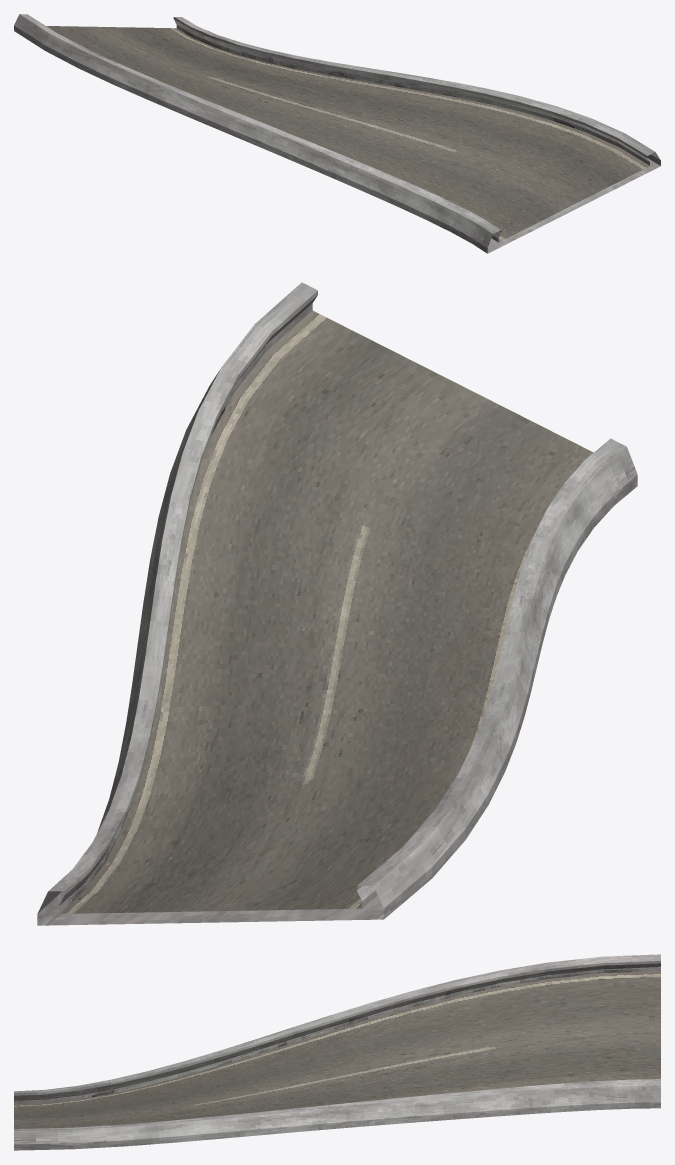
File: chicane-left1x3.glb
3 views of the same model, one above another, from view 1: azimuth 30°, elevation 25°; view 2: azimuth 150°, elevation 25°; view 3: azimuth 270°, elevation 25° (orthographic). The views are drawn at different scales.
Visible parts, largest first — view 1: road-Chicane-HalfBankedLeft-HalfBankedRight-Even-Left1-Size3; view 2: road-Chicane-HalfBankedLeft-HalfBankedRight-Even-Left1-Size3; view 3: road-Chicane-HalfBankedLeft-HalfBankedRight-Even-Left1-Size3.
Boxes of the visible parts, box(x1,y1,x2,y2) form: road-Chicane-HalfBankedLeft-HalfBankedRight-Even-Left1-Size3: box(14, 14, 660, 253); road-Chicane-HalfBankedLeft-HalfBankedRight-Even-Left1-Size3: box(37, 282, 637, 925); road-Chicane-HalfBankedLeft-HalfBankedRight-Even-Left1-Size3: box(14, 954, 660, 1150).
Size of the model in its own units: 2 by 0.3359 by 3.
Materials: 2 (2 with a texture image).
